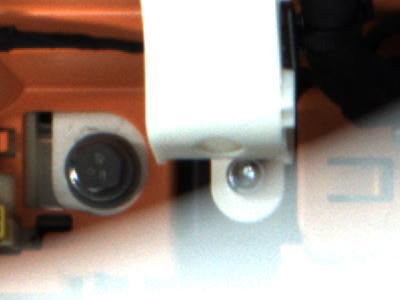nut_b: (62, 126, 147, 214)
